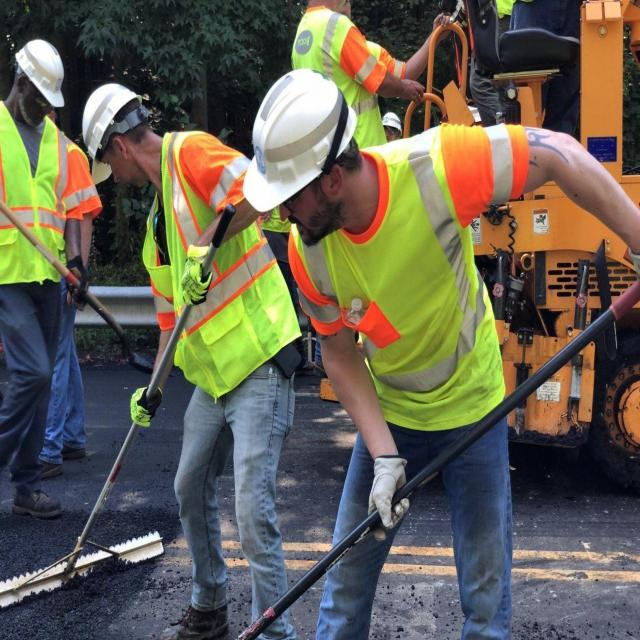Reflective-Jacket: (291, 76, 507, 426), (146, 126, 289, 378), (287, 4, 390, 151), (0, 109, 72, 288)
Safety-Helmet: (241, 65, 349, 212), (79, 74, 144, 171), (13, 35, 67, 109)
